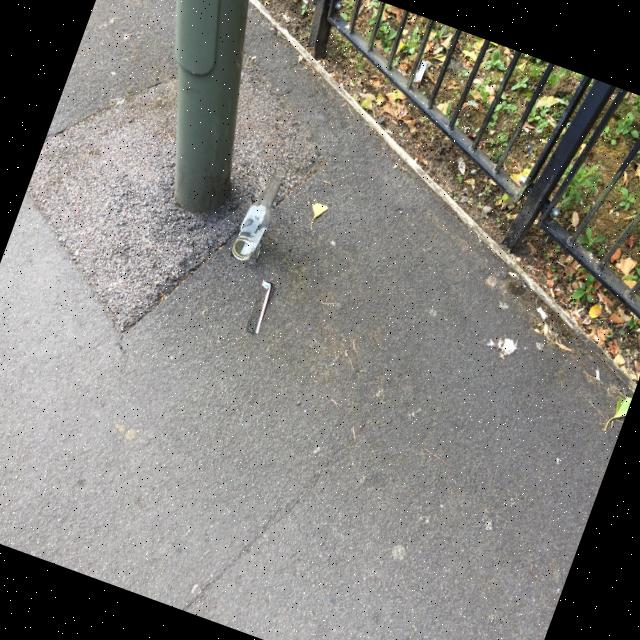Glass bottle: (233, 168, 287, 261)
Plastic straw: (256, 280, 271, 334)
Unlabeled litter: (415, 63, 427, 82)
